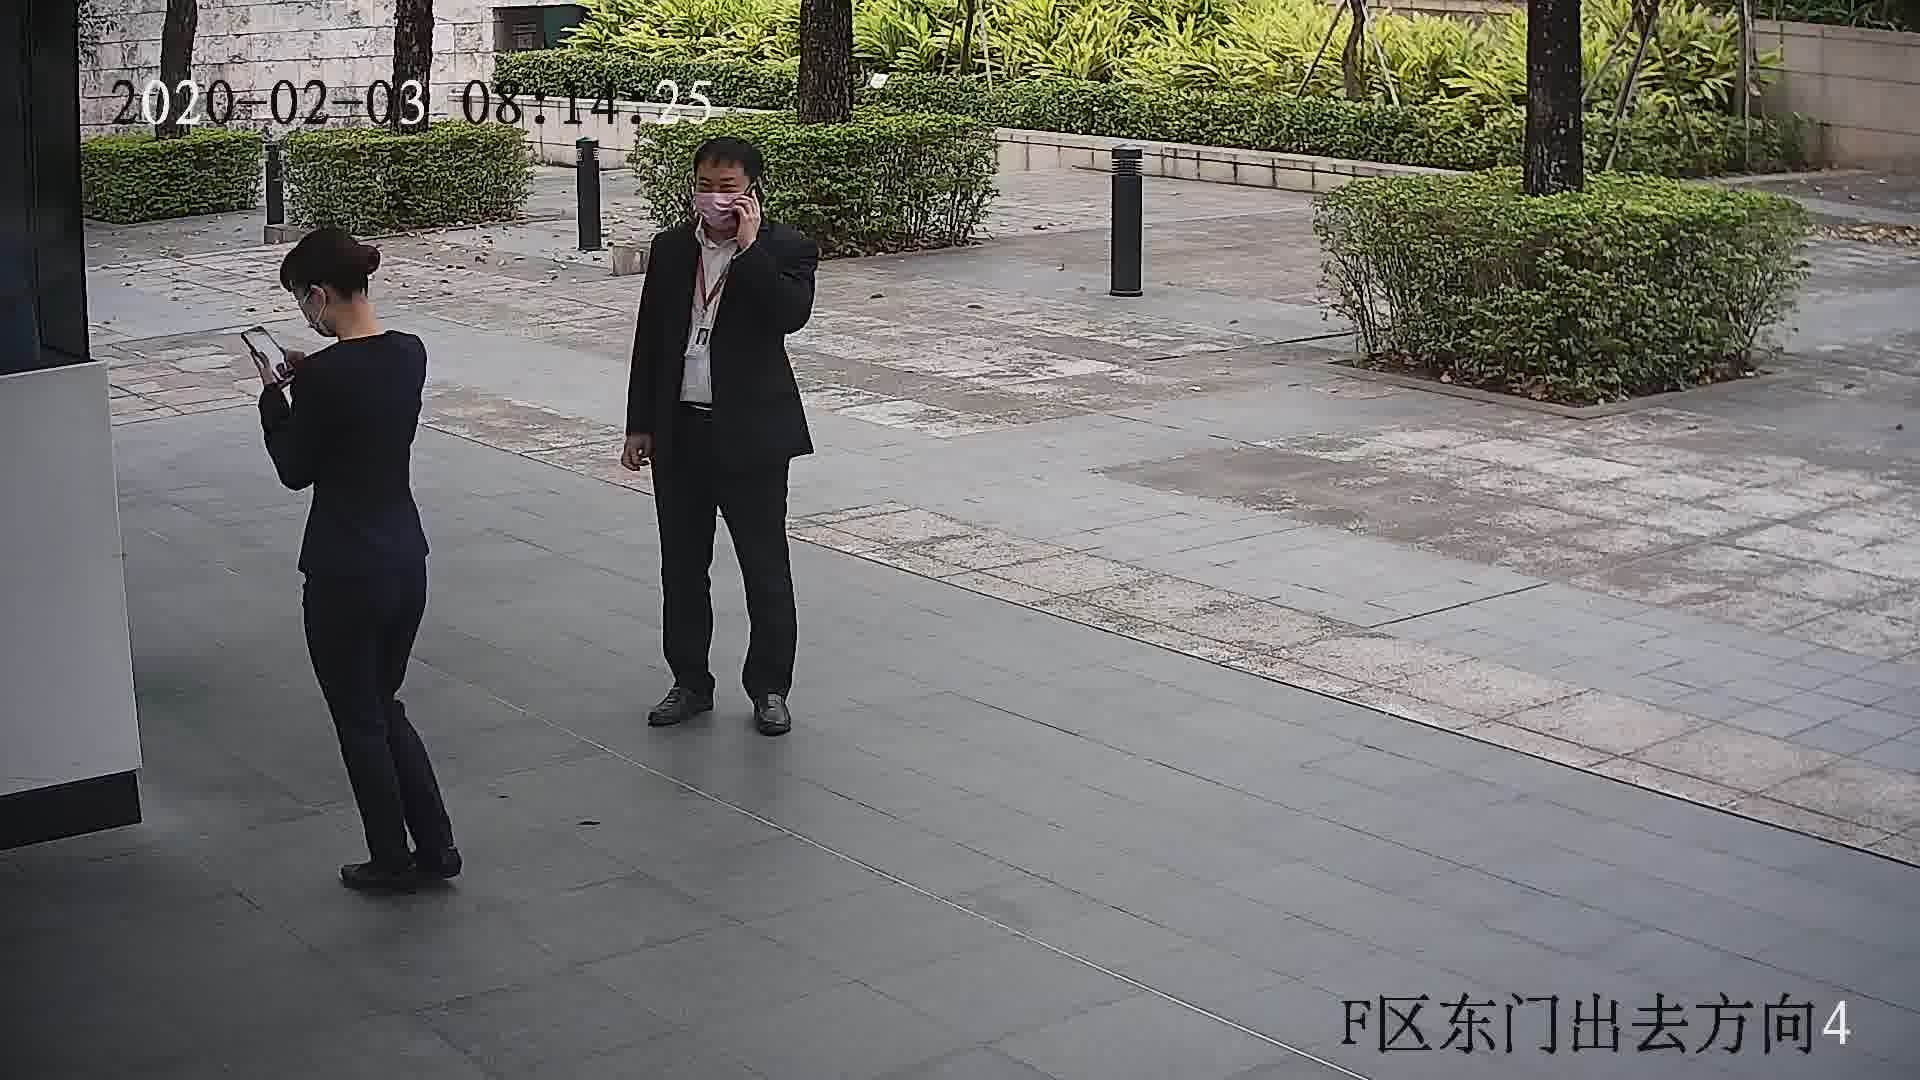face: (292, 272, 353, 334), (696, 166, 754, 224)
mask: (696, 188, 742, 226), (294, 300, 327, 335)
person: (646, 136, 815, 285), (283, 229, 427, 393)
